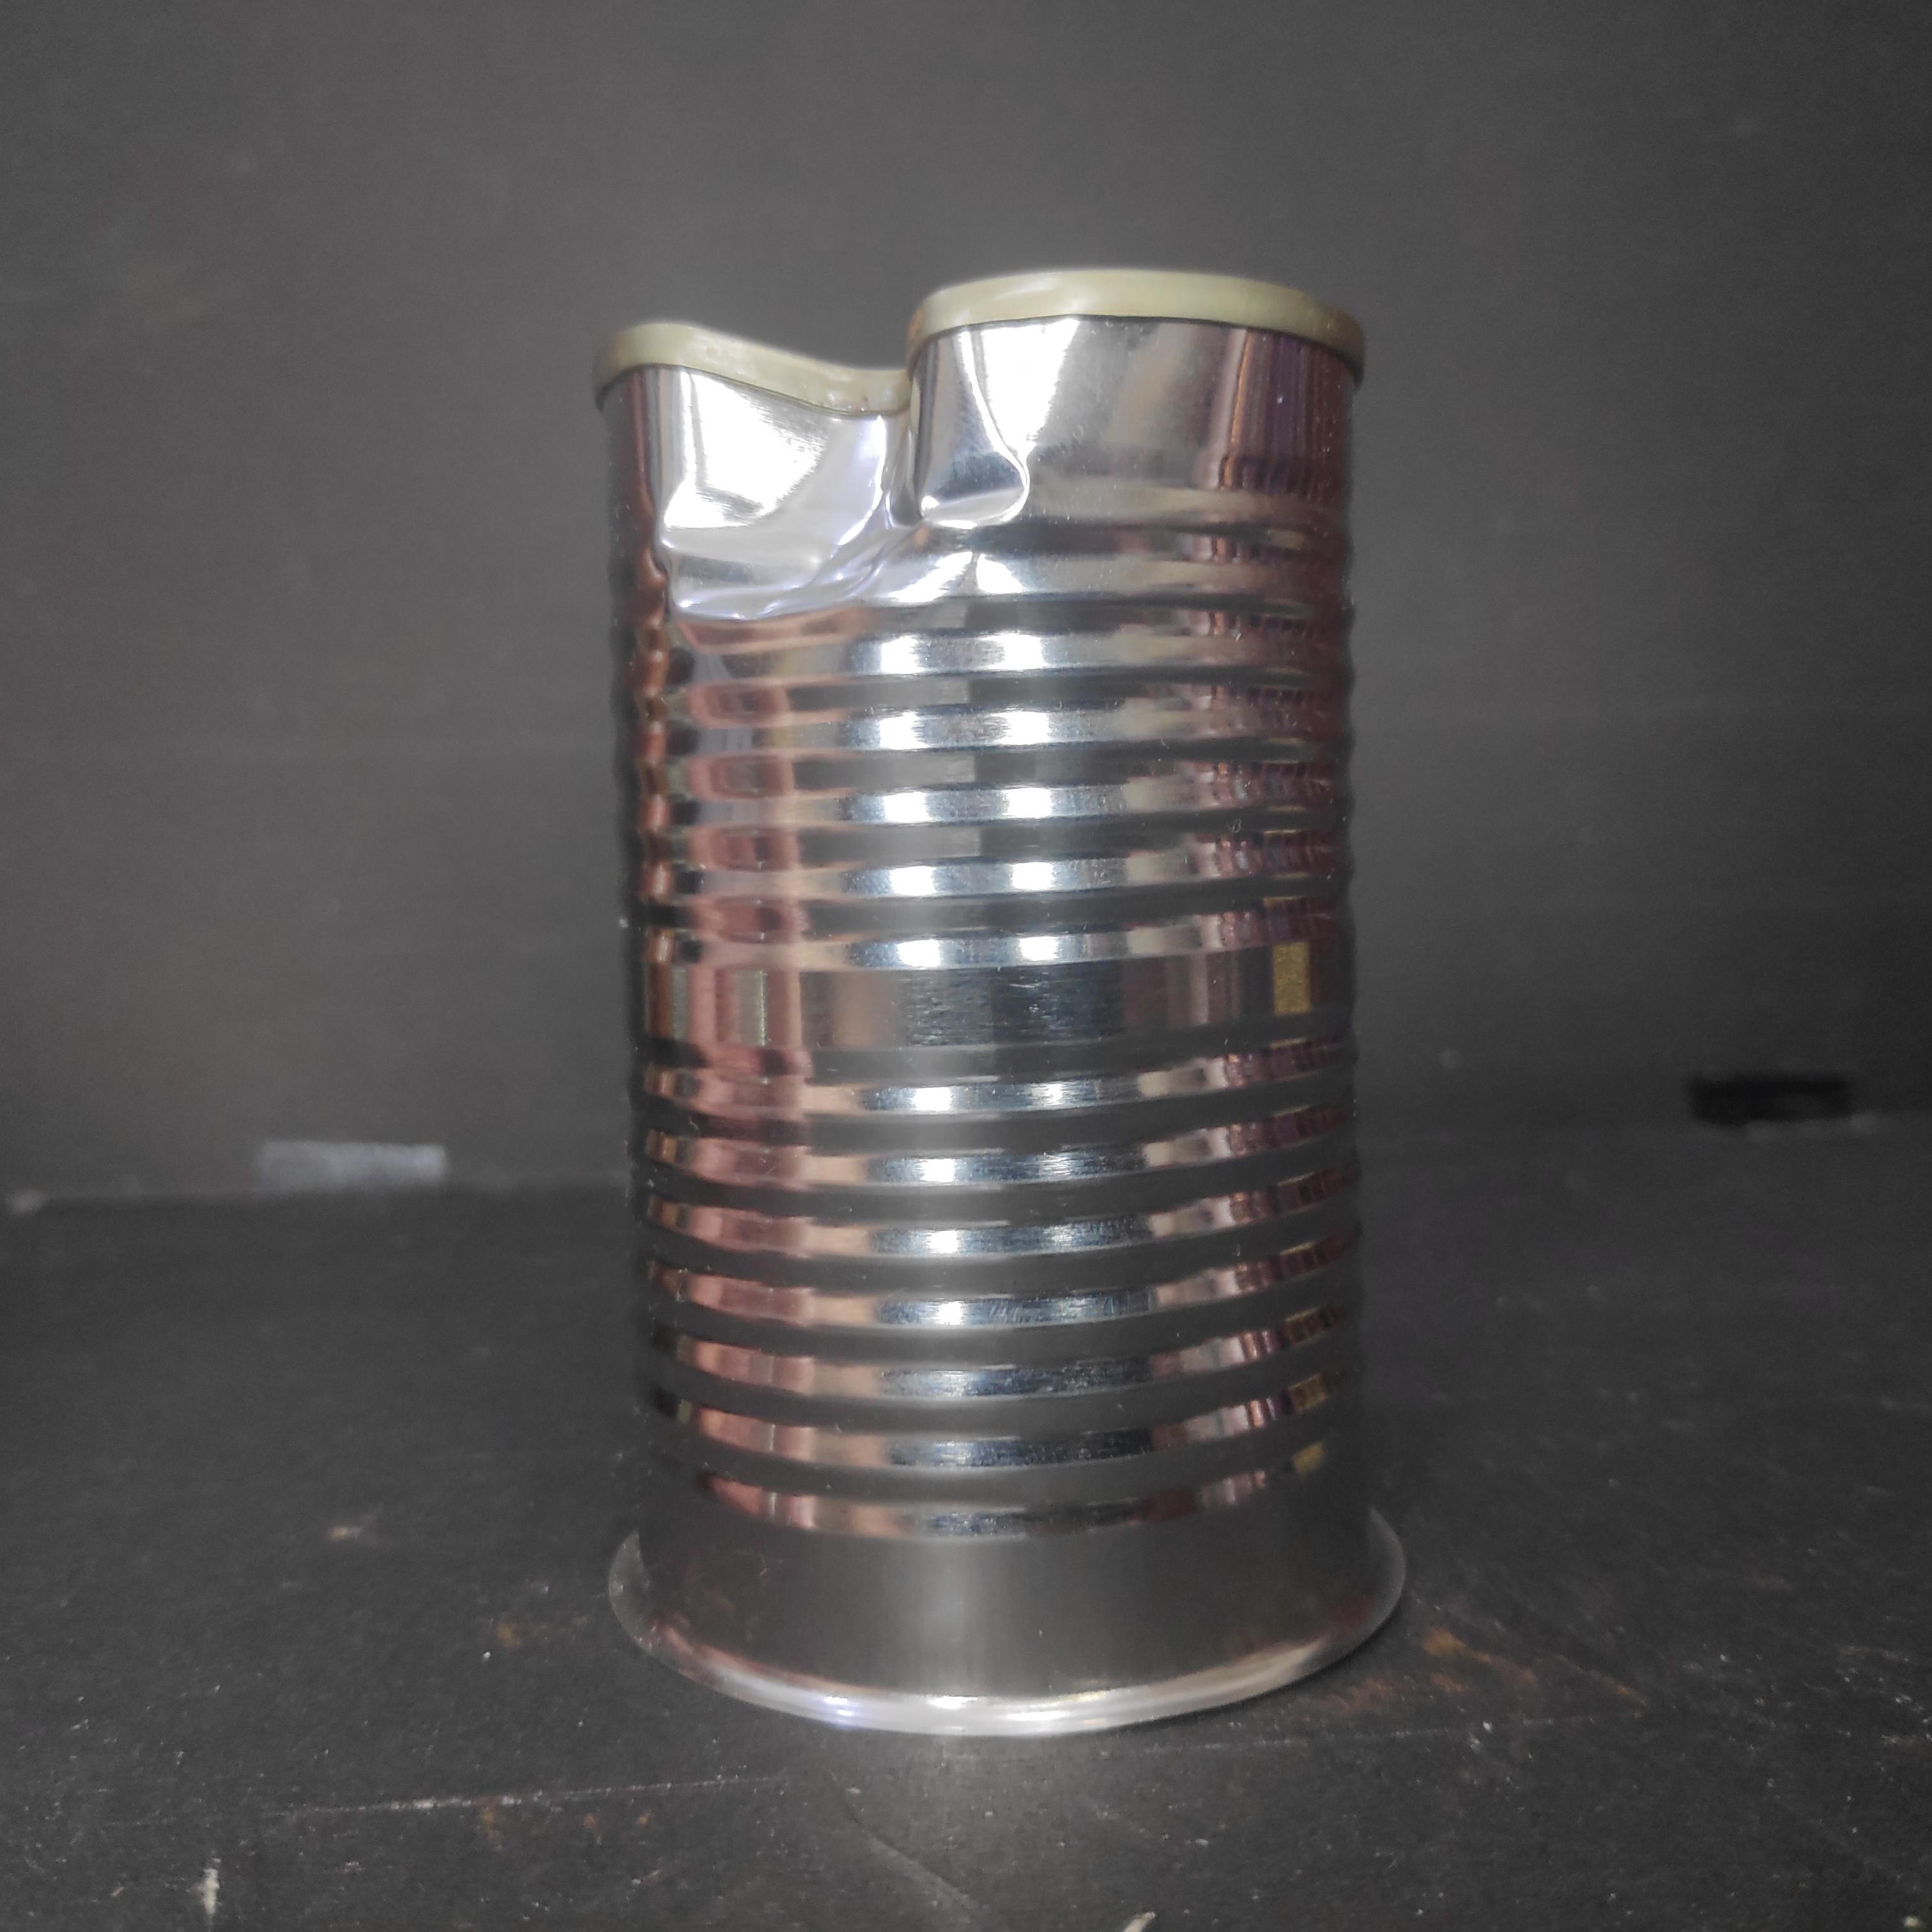Critical Defect: (586, 262, 1408, 1743)
